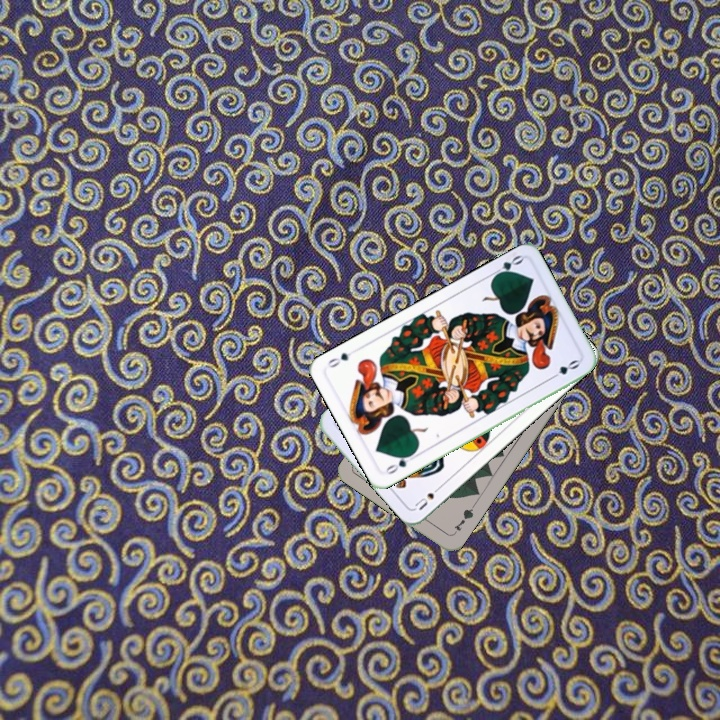G7: (449, 502, 476, 538)
GO: (487, 251, 525, 281), (382, 449, 417, 477)
SU: (411, 481, 445, 513)
